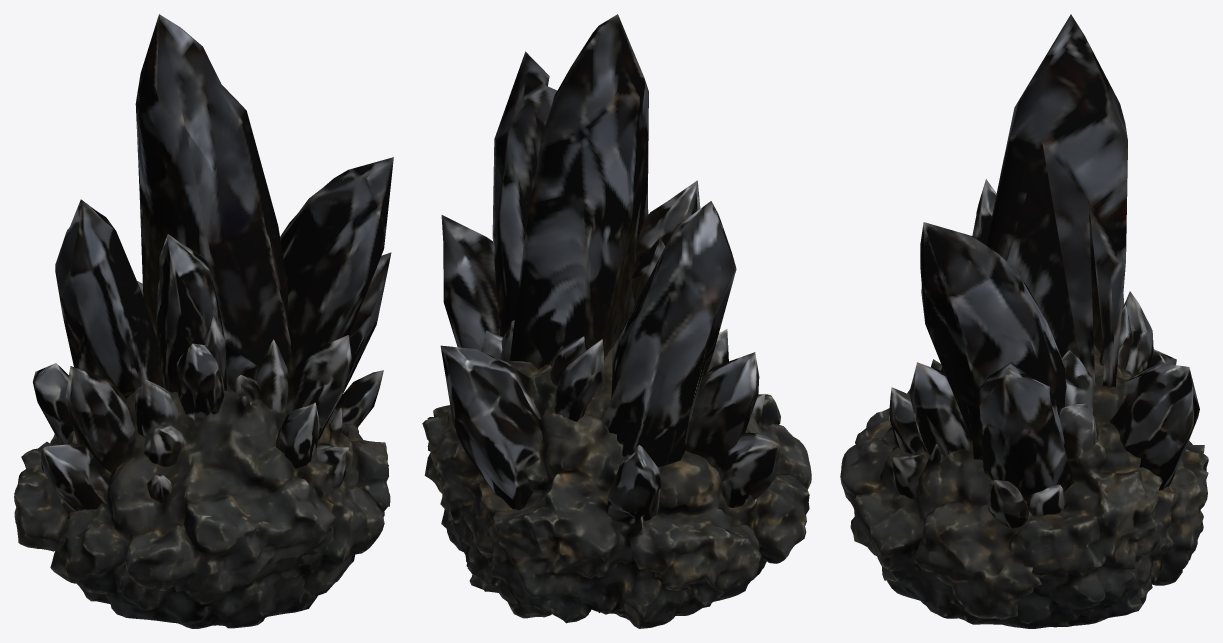
File: volcano_2.glb
3 renders of one model, left to right at view 1: azimuth 30°, elevation 25°; view 2: azimuth 150°, elevation 25°; view 3: azimuth 270°, elevation 25°, orthographic. The views are drawn at different scales.
Visible parts, largest first — view 1: geometry_0; view 2: geometry_0; view 3: geometry_0.
Part boxes in pixels (bbox=[...]): geometry_0: bbox=[14, 14, 393, 628]; geometry_0: bbox=[422, 14, 811, 628]; geometry_0: bbox=[840, 14, 1208, 628].
Size of the model in its own units: 0.6118 by 0.9512 by 0.5786.
Materials: 1 (1 with a texture image).
